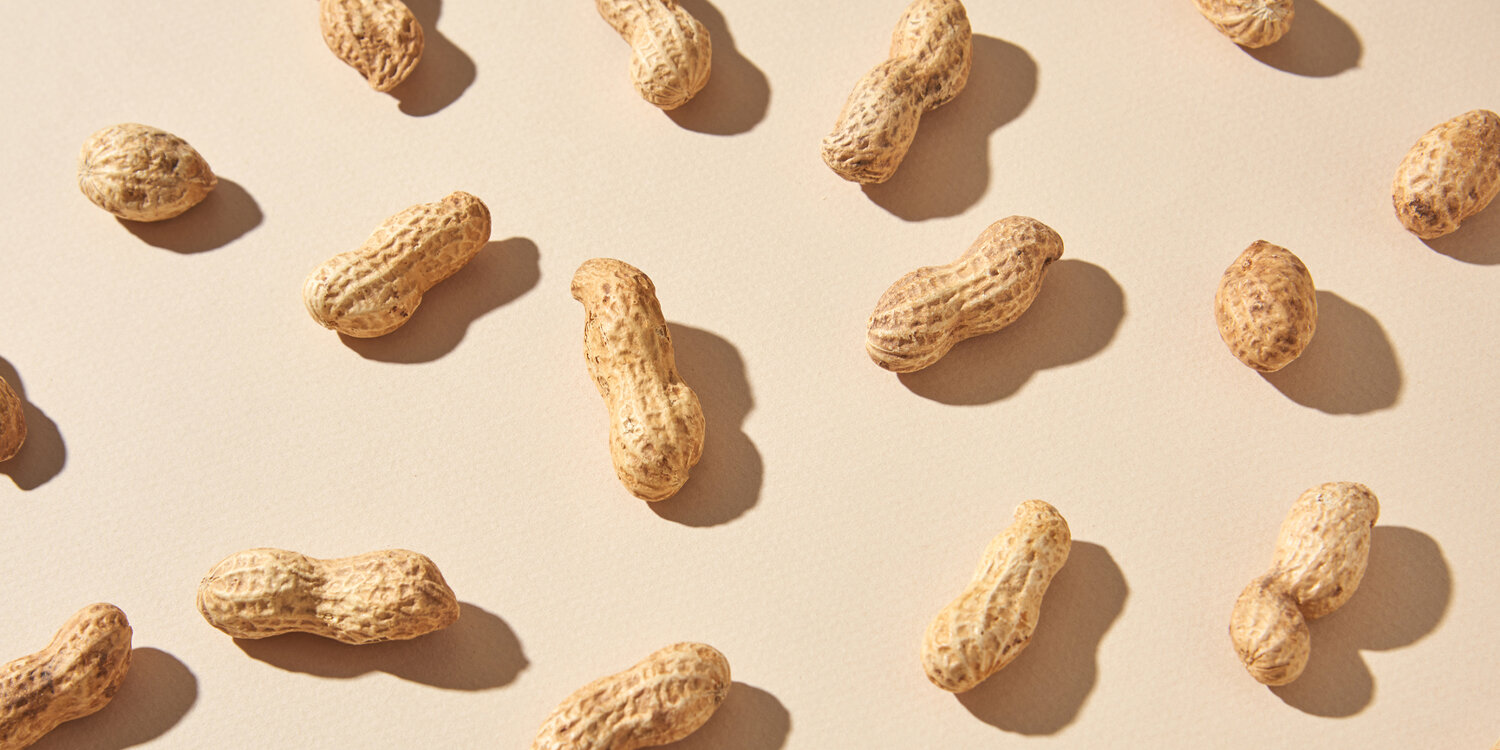kacang1: (66, 97, 230, 244), (1377, 90, 1500, 259), (1207, 238, 1327, 376), (303, 1, 456, 95)
kacang2: (1210, 450, 1395, 709), (550, 243, 715, 517), (848, 199, 1089, 371), (286, 181, 507, 358), (921, 490, 1078, 700), (187, 544, 457, 653), (521, 634, 766, 750), (824, 3, 975, 187), (1, 594, 153, 744), (577, 2, 727, 112)
